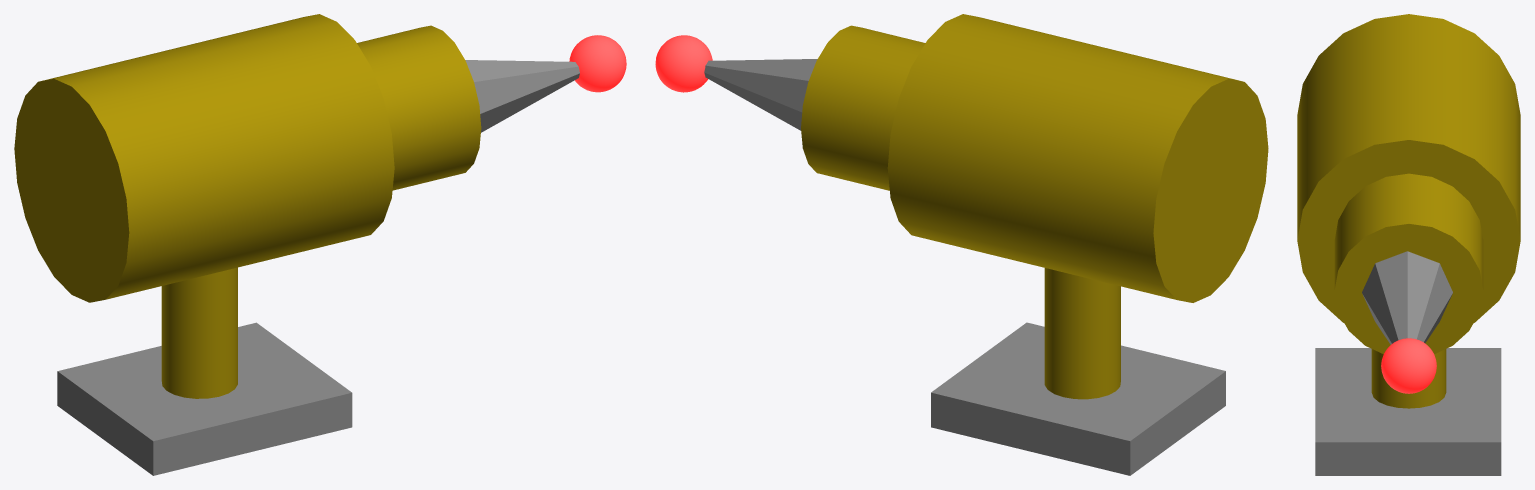
File: Laser_Turret.fbx
The picture shows the model from 3 angles, left to right: view 1: azimuth 30°, elevation 25°; view 2: azimuth 150°, elevation 25°; view 3: azimuth 270°, elevation 25°; orthographic projection. The views are drawn at different scales.
Visible parts, largest first — view 1: Main_Body_1, Base, Main_Body_2, Stem, Laser_Component_1, Laser_Component_2; view 2: Main_Body_1, Base, Main_Body_2, Stem, Laser_Component_1, Laser_Component_2; view 3: Main_Body_1, Base, Main_Body_2, Laser_Component_1, Laser_Component_2, Stem.
Part boxes in pixels (box(x1,y1,x2,y2)): Main_Body_1: box(14, 14, 394, 302); Base: box(57, 322, 352, 475); Main_Body_2: box(357, 25, 481, 190); Stem: box(161, 267, 237, 398); Laser_Component_1: box(465, 60, 579, 132); Laser_Component_2: box(569, 35, 626, 92); Main_Body_1: box(887, 14, 1268, 302); Base: box(931, 322, 1225, 475); Main_Body_2: box(801, 25, 925, 190); Stem: box(1044, 268, 1120, 399); Laser_Component_1: box(704, 59, 817, 130); Laser_Component_2: box(655, 35, 712, 92); Main_Body_1: box(1297, 14, 1520, 322); Base: box(1315, 348, 1501, 475); Main_Body_2: box(1334, 173, 1483, 353); Laser_Component_1: box(1362, 251, 1452, 344); Laser_Component_2: box(1381, 338, 1436, 393); Stem: box(1371, 349, 1446, 408).
Bounding box in the file's own units: 166 × 104 × 60.
